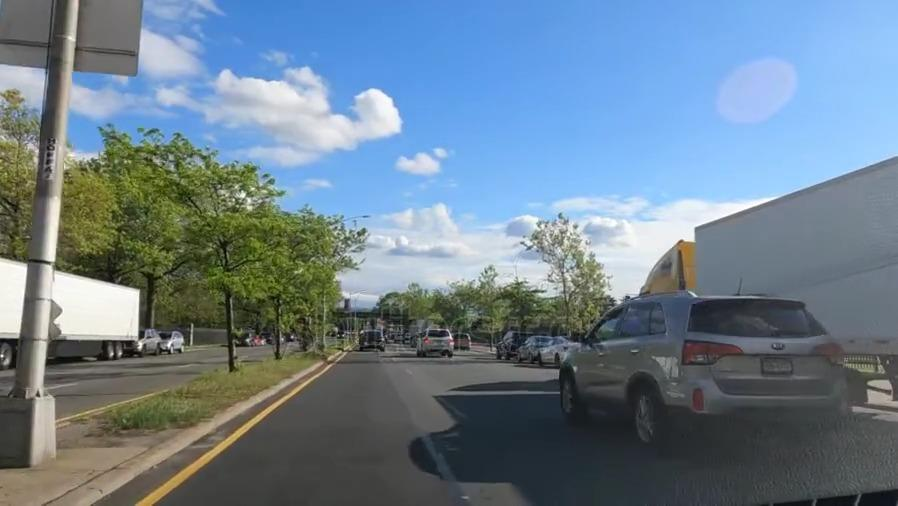car: (555, 295, 839, 433), (131, 325, 161, 362), (418, 329, 452, 357), (544, 335, 568, 364), (499, 332, 521, 361), (521, 336, 546, 361), (161, 330, 185, 355), (360, 330, 384, 352), (454, 330, 471, 352), (236, 330, 250, 347)
truck: (633, 198, 898, 295), (1, 257, 139, 369)
wheel: (625, 380, 667, 453), (558, 369, 575, 419)
